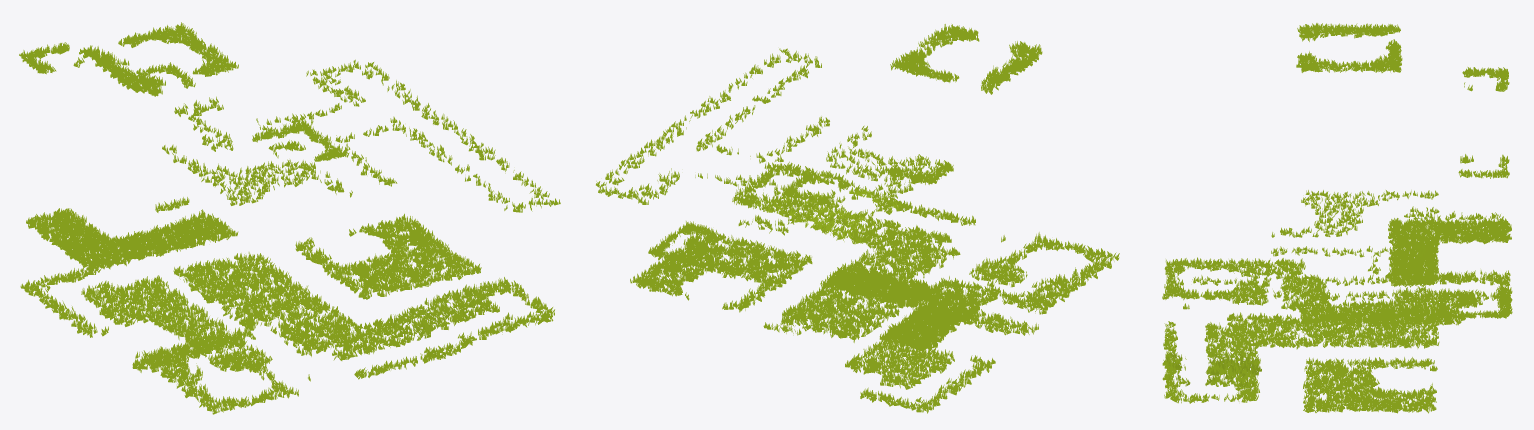
Rendered from grass.fbx.
3 views of the same model, side by side, from view 1: azimuth 30°, elevation 25°; view 2: azimuth 150°, elevation 25°; view 3: azimuth 270°, elevation 25° (orthographic). The views are drawn at different scales.
Parts seen in each view (by area): view 1: Plane.011, grassUp, GrassBasePlane.001, Plane.013, Plane.012, Plane.009; view 2: Plane.011, grassUp, GrassBasePlane.001, Plane.013, Plane.012, Plane.009, Plane.010; view 3: Plane.011, grassUp, GrassBasePlane.001, Plane.013, Plane.012, Plane.009.
Boxes of the visible parts, x1,y1,x2,y2 form: Plane.011: [20, 252, 554, 414]; grassUp: [162, 59, 560, 212]; GrassBasePlane.001: [295, 213, 481, 299]; Plane.013: [26, 208, 238, 272]; Plane.012: [19, 22, 238, 96]; Plane.009: [252, 122, 349, 161]; Plane.011: [732, 161, 1119, 413]; grassUp: [596, 48, 943, 235]; GrassBasePlane.001: [630, 229, 812, 312]; Plane.013: [821, 263, 988, 350]; Plane.012: [782, 24, 1042, 204]; Plane.009: [648, 221, 726, 266]; Plane.010: [763, 305, 821, 335]; Plane.011: [1162, 257, 1512, 403]; grassUp: [1164, 190, 1510, 301]; GrassBasePlane.001: [1303, 357, 1437, 413]; Plane.013: [1388, 218, 1511, 287]; Plane.012: [1296, 23, 1509, 178]; Plane.009: [1435, 290, 1512, 319].
Bounding box in the file's own units: 16.57 × 12.91 × 16.04.
